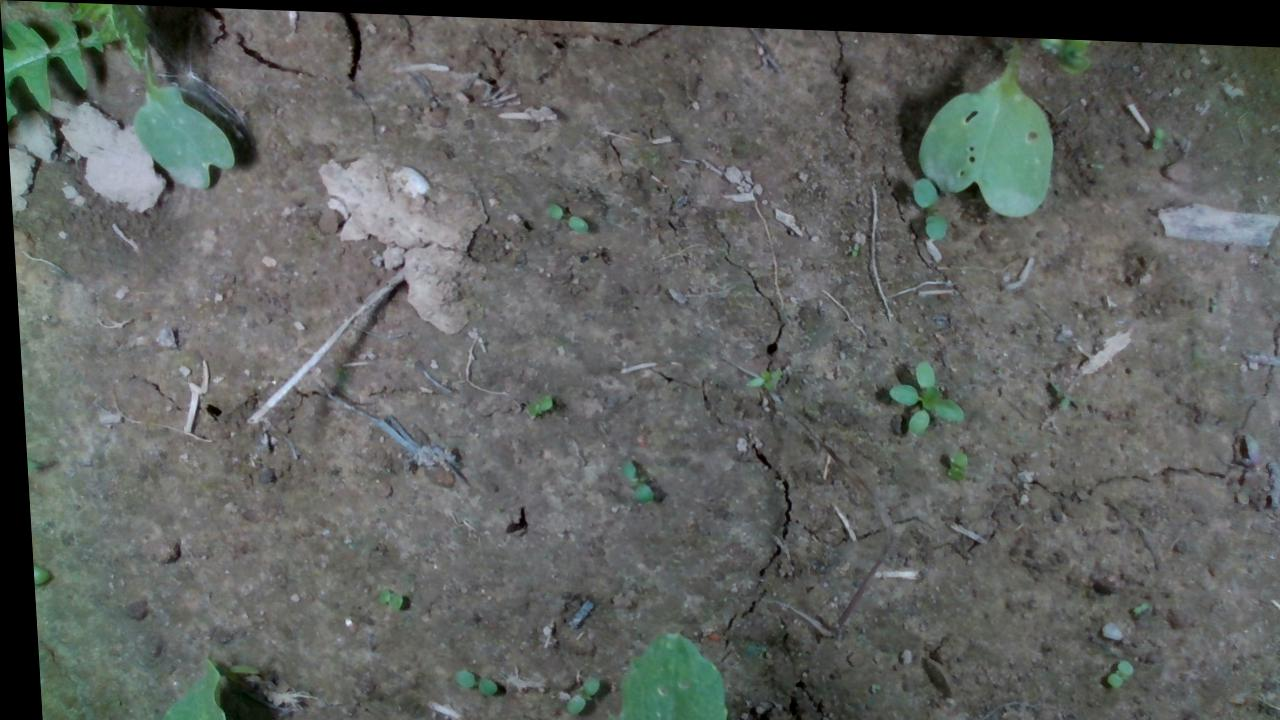weed: (879, 347, 961, 427), (554, 669, 593, 710), (613, 454, 647, 498), (541, 198, 587, 228), (443, 664, 489, 691), (738, 359, 779, 384), (1096, 648, 1126, 681), (518, 389, 548, 414), (368, 584, 397, 608), (1149, 115, 1164, 142), (1123, 590, 1143, 607), (847, 234, 856, 251)
